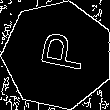P_W: (29, 32, 87, 78)
